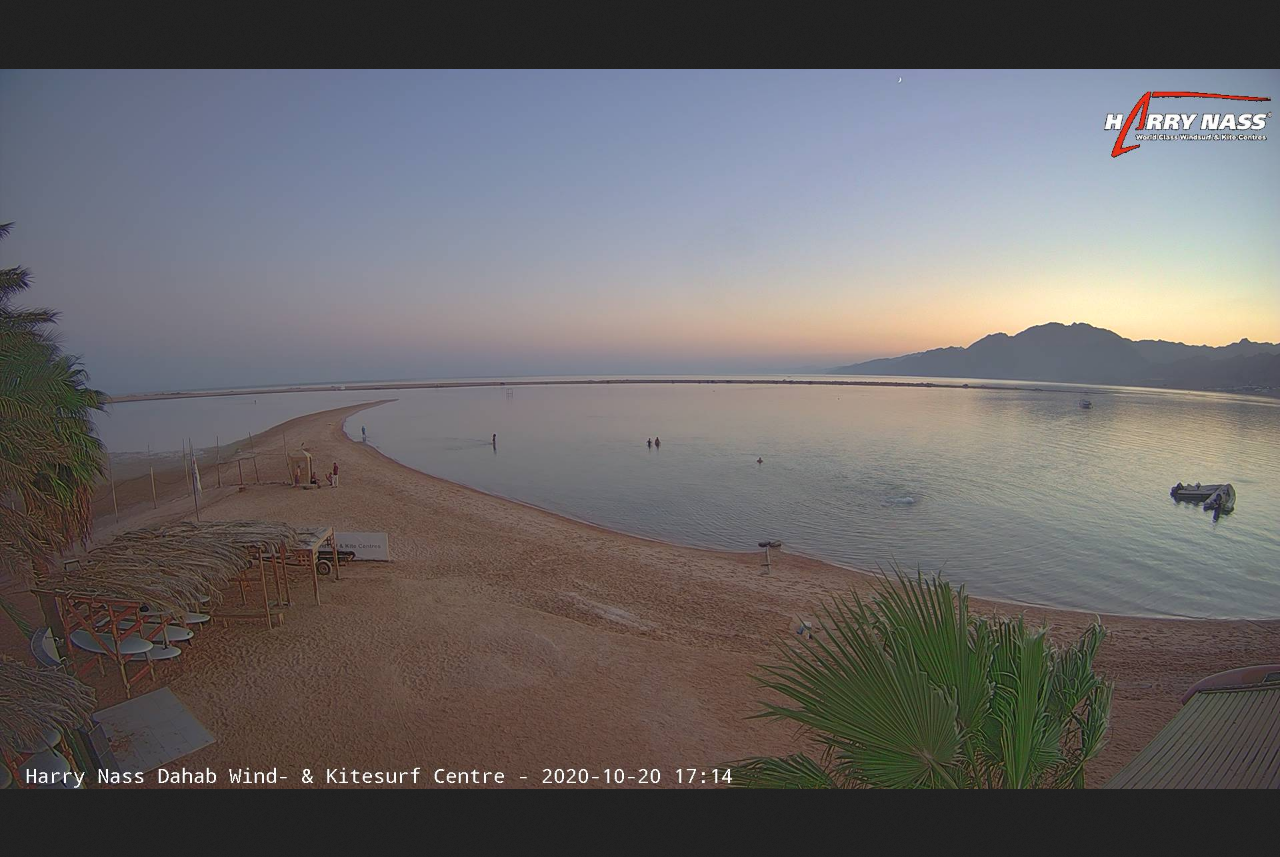no: (186, 446, 203, 489)
